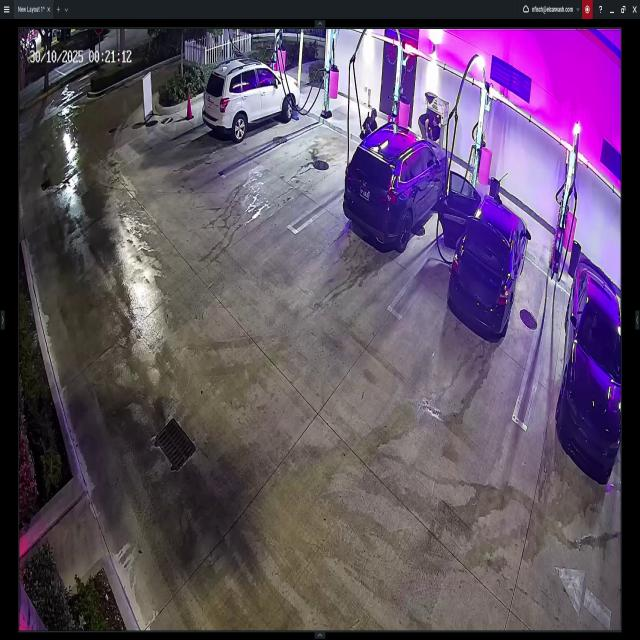Car: (558, 258, 621, 478), (447, 173, 529, 341), (344, 120, 449, 246), (202, 60, 299, 142)
